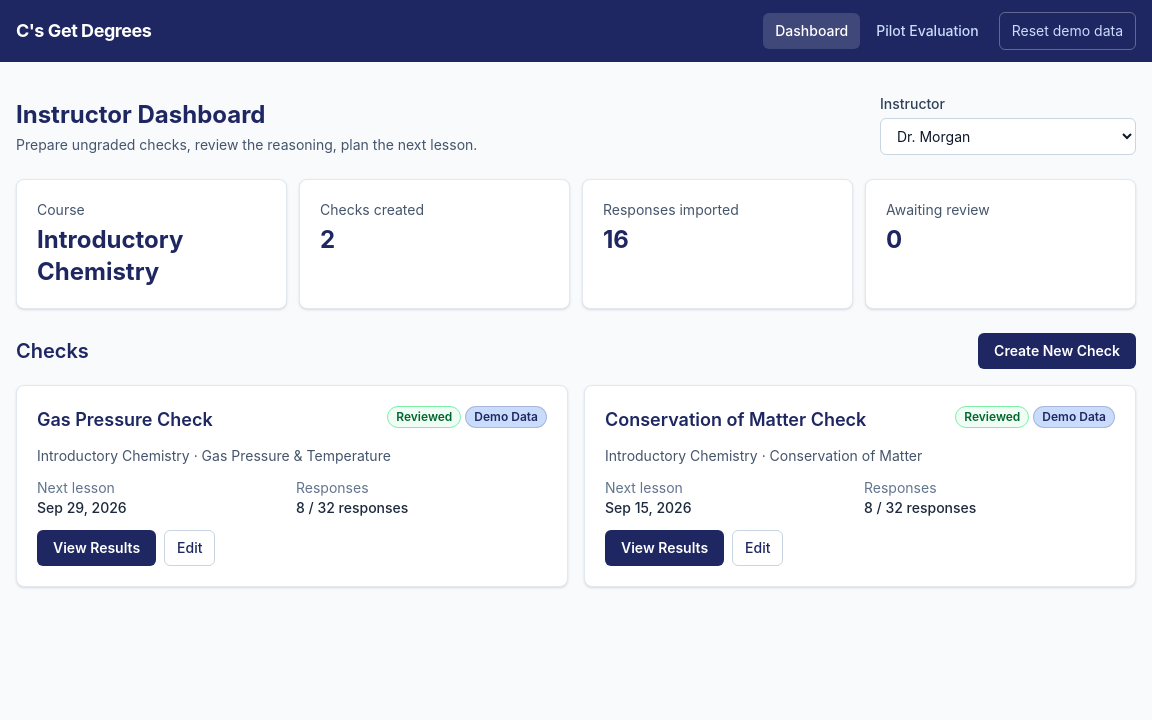
Scenario: Draft card offers Import Responses instead of View Results
Select "Alex Rivera (TA)" in the dropdown labelled "Instructor" at (1008, 136), box [880,118,1136,155]
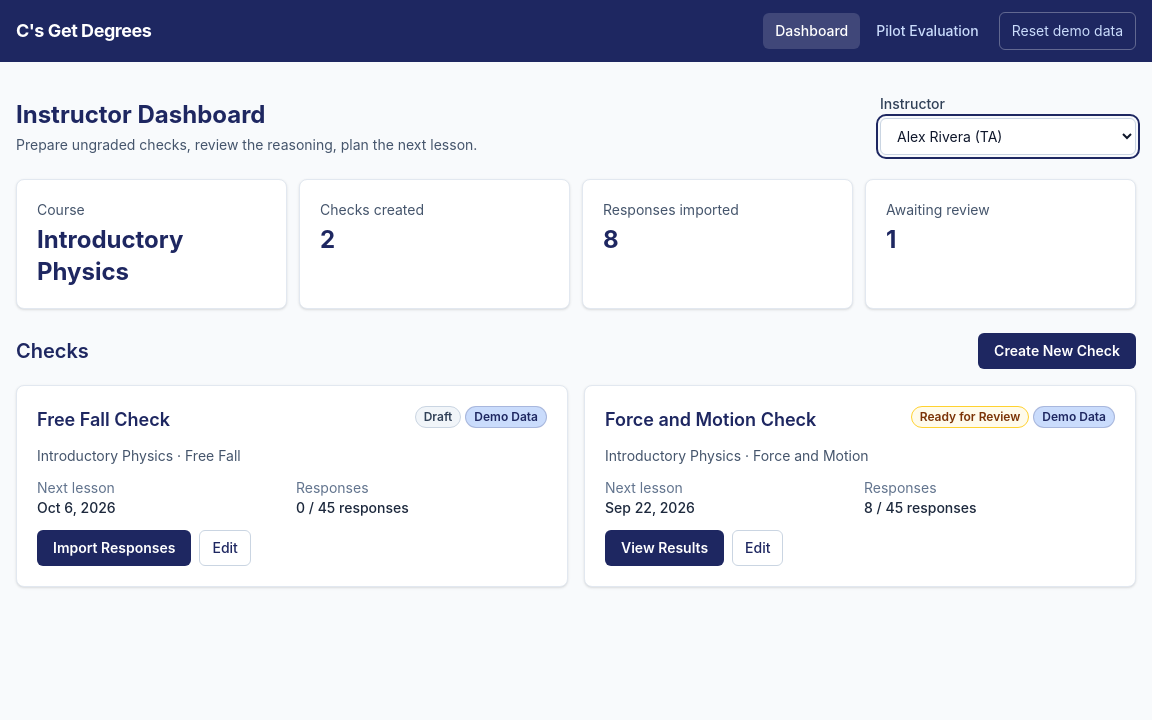
Expected: the text "Draft" is shown, [415,406,461,428]
Expected: the text "Ready for Review" is shown, [911,406,1029,428]
